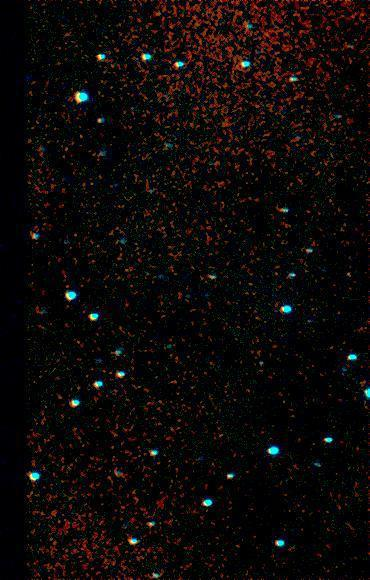star: (335, 255, 365, 285)
